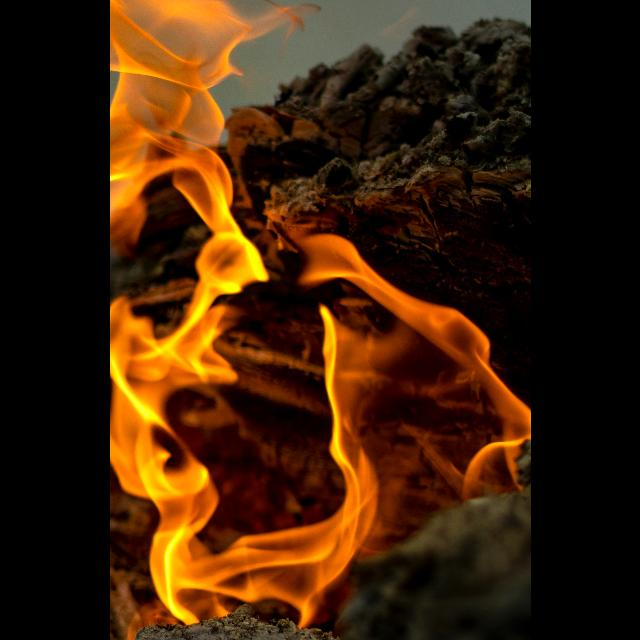fire: (109, 0, 531, 628)
